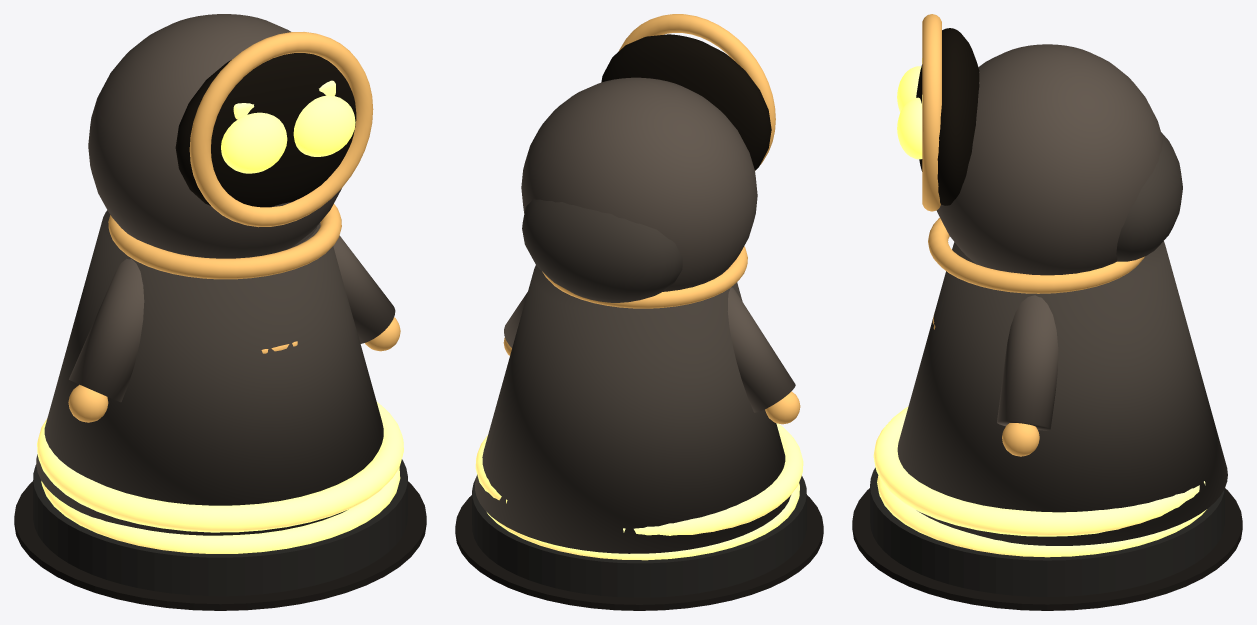
Rendered from guardian.glb.
3 views of the same model, side by side, from view 1: azimuth 30°, elevation 25°; view 2: azimuth 150°, elevation 25°; view 3: azimuth 270°, elevation 25° (orthographic). The views are drawn at different scales.
Visible parts, largest first — view 1: Guardian_Cloak_Skirt, Guardian_Hood, Guardian_Base, Guardian_Face, Guardian_Cloak_Hem, Guardian_Hood_Trim, Guardian_Shadow, Guardian_Base_Ring, Guardian_Sleeve_Left, Guardian_Hood_Collar, Guardian_Eye_Left, Guardian_Sleeve_Right (+3 smaller); view 2: Guardian_Cloak_Skirt, Guardian_Hood, Guardian_Base, Guardian_Hood_Back, Guardian_Face, Guardian_Shadow, Guardian_Cloak_Hem, Guardian_Sleeve_Left, Guardian_Hood_Trim, Guardian_Base_Ring, Guardian_Hood_Collar, Guardian_Hand_Left; view 3: Guardian_Cloak_Skirt, Guardian_Hood, Guardian_Base, Guardian_Cloak_Hem, Guardian_Shadow, Guardian_Sleeve_Right, Guardian_Face, Guardian_Hood_Collar, Guardian_Hood_Back, Guardian_Base_Ring, Guardian_Hood_Trim, Guardian_Eye_Right (+2 smaller).
Part boxes in pixels (box(x1,y1,x2,y2)): Guardian_Cloak_Skirt: box(36, 210, 383, 535); Guardian_Hood: box(88, 14, 341, 258); Guardian_Base: box(33, 459, 407, 596); Guardian_Face: box(175, 53, 356, 207); Guardian_Cloak_Hem: box(37, 401, 403, 532); Guardian_Hood_Trim: box(189, 32, 373, 227); Guardian_Shadow: box(14, 481, 426, 610); Guardian_Base_Ring: box(41, 467, 400, 553); Guardian_Sleeve_Left: box(69, 258, 144, 402); Guardian_Hood_Collar: box(108, 204, 341, 279); Guardian_Eye_Left: box(221, 112, 287, 173); Guardian_Sleeve_Right: box(333, 235, 395, 343); Guardian_Cloak_Skirt: box(475, 265, 790, 553); Guardian_Hood: box(521, 77, 757, 291); Guardian_Base: box(472, 476, 806, 597); Guardian_Hood_Back: box(522, 199, 682, 302); Guardian_Face: box(601, 34, 771, 170); Guardian_Shadow: box(455, 495, 823, 610); Guardian_Cloak_Hem: box(475, 423, 803, 535); Guardian_Sleeve_Left: box(727, 287, 795, 412); Guardian_Hood_Trim: box(619, 14, 775, 170); Guardian_Base_Ring: box(487, 483, 799, 560); Guardian_Hood_Collar: box(542, 246, 747, 308); Guardian_Hand_Left: box(765, 391, 800, 424); Guardian_Cloak_Skirt: box(897, 241, 1227, 545); Guardian_Hood: box(936, 44, 1162, 275); Guardian_Base: box(870, 467, 1224, 596); Guardian_Cloak_Hem: box(873, 406, 1205, 536); Guardian_Shadow: box(852, 488, 1242, 610); Guardian_Sleeve_Right: box(997, 295, 1058, 430); Guardian_Face: box(916, 28, 979, 205); Guardian_Hood_Collar: box(928, 217, 1144, 293); Guardian_Hood_Back: box(1116, 132, 1182, 261); Guardian_Base_Ring: box(877, 475, 1206, 557); Guardian_Hood_Trim: box(922, 14, 941, 211); Guardian_Eye_Right: box(897, 97, 922, 159).
Bounding box in the file's own units: 0.66 × 0.942 × 0.66.
